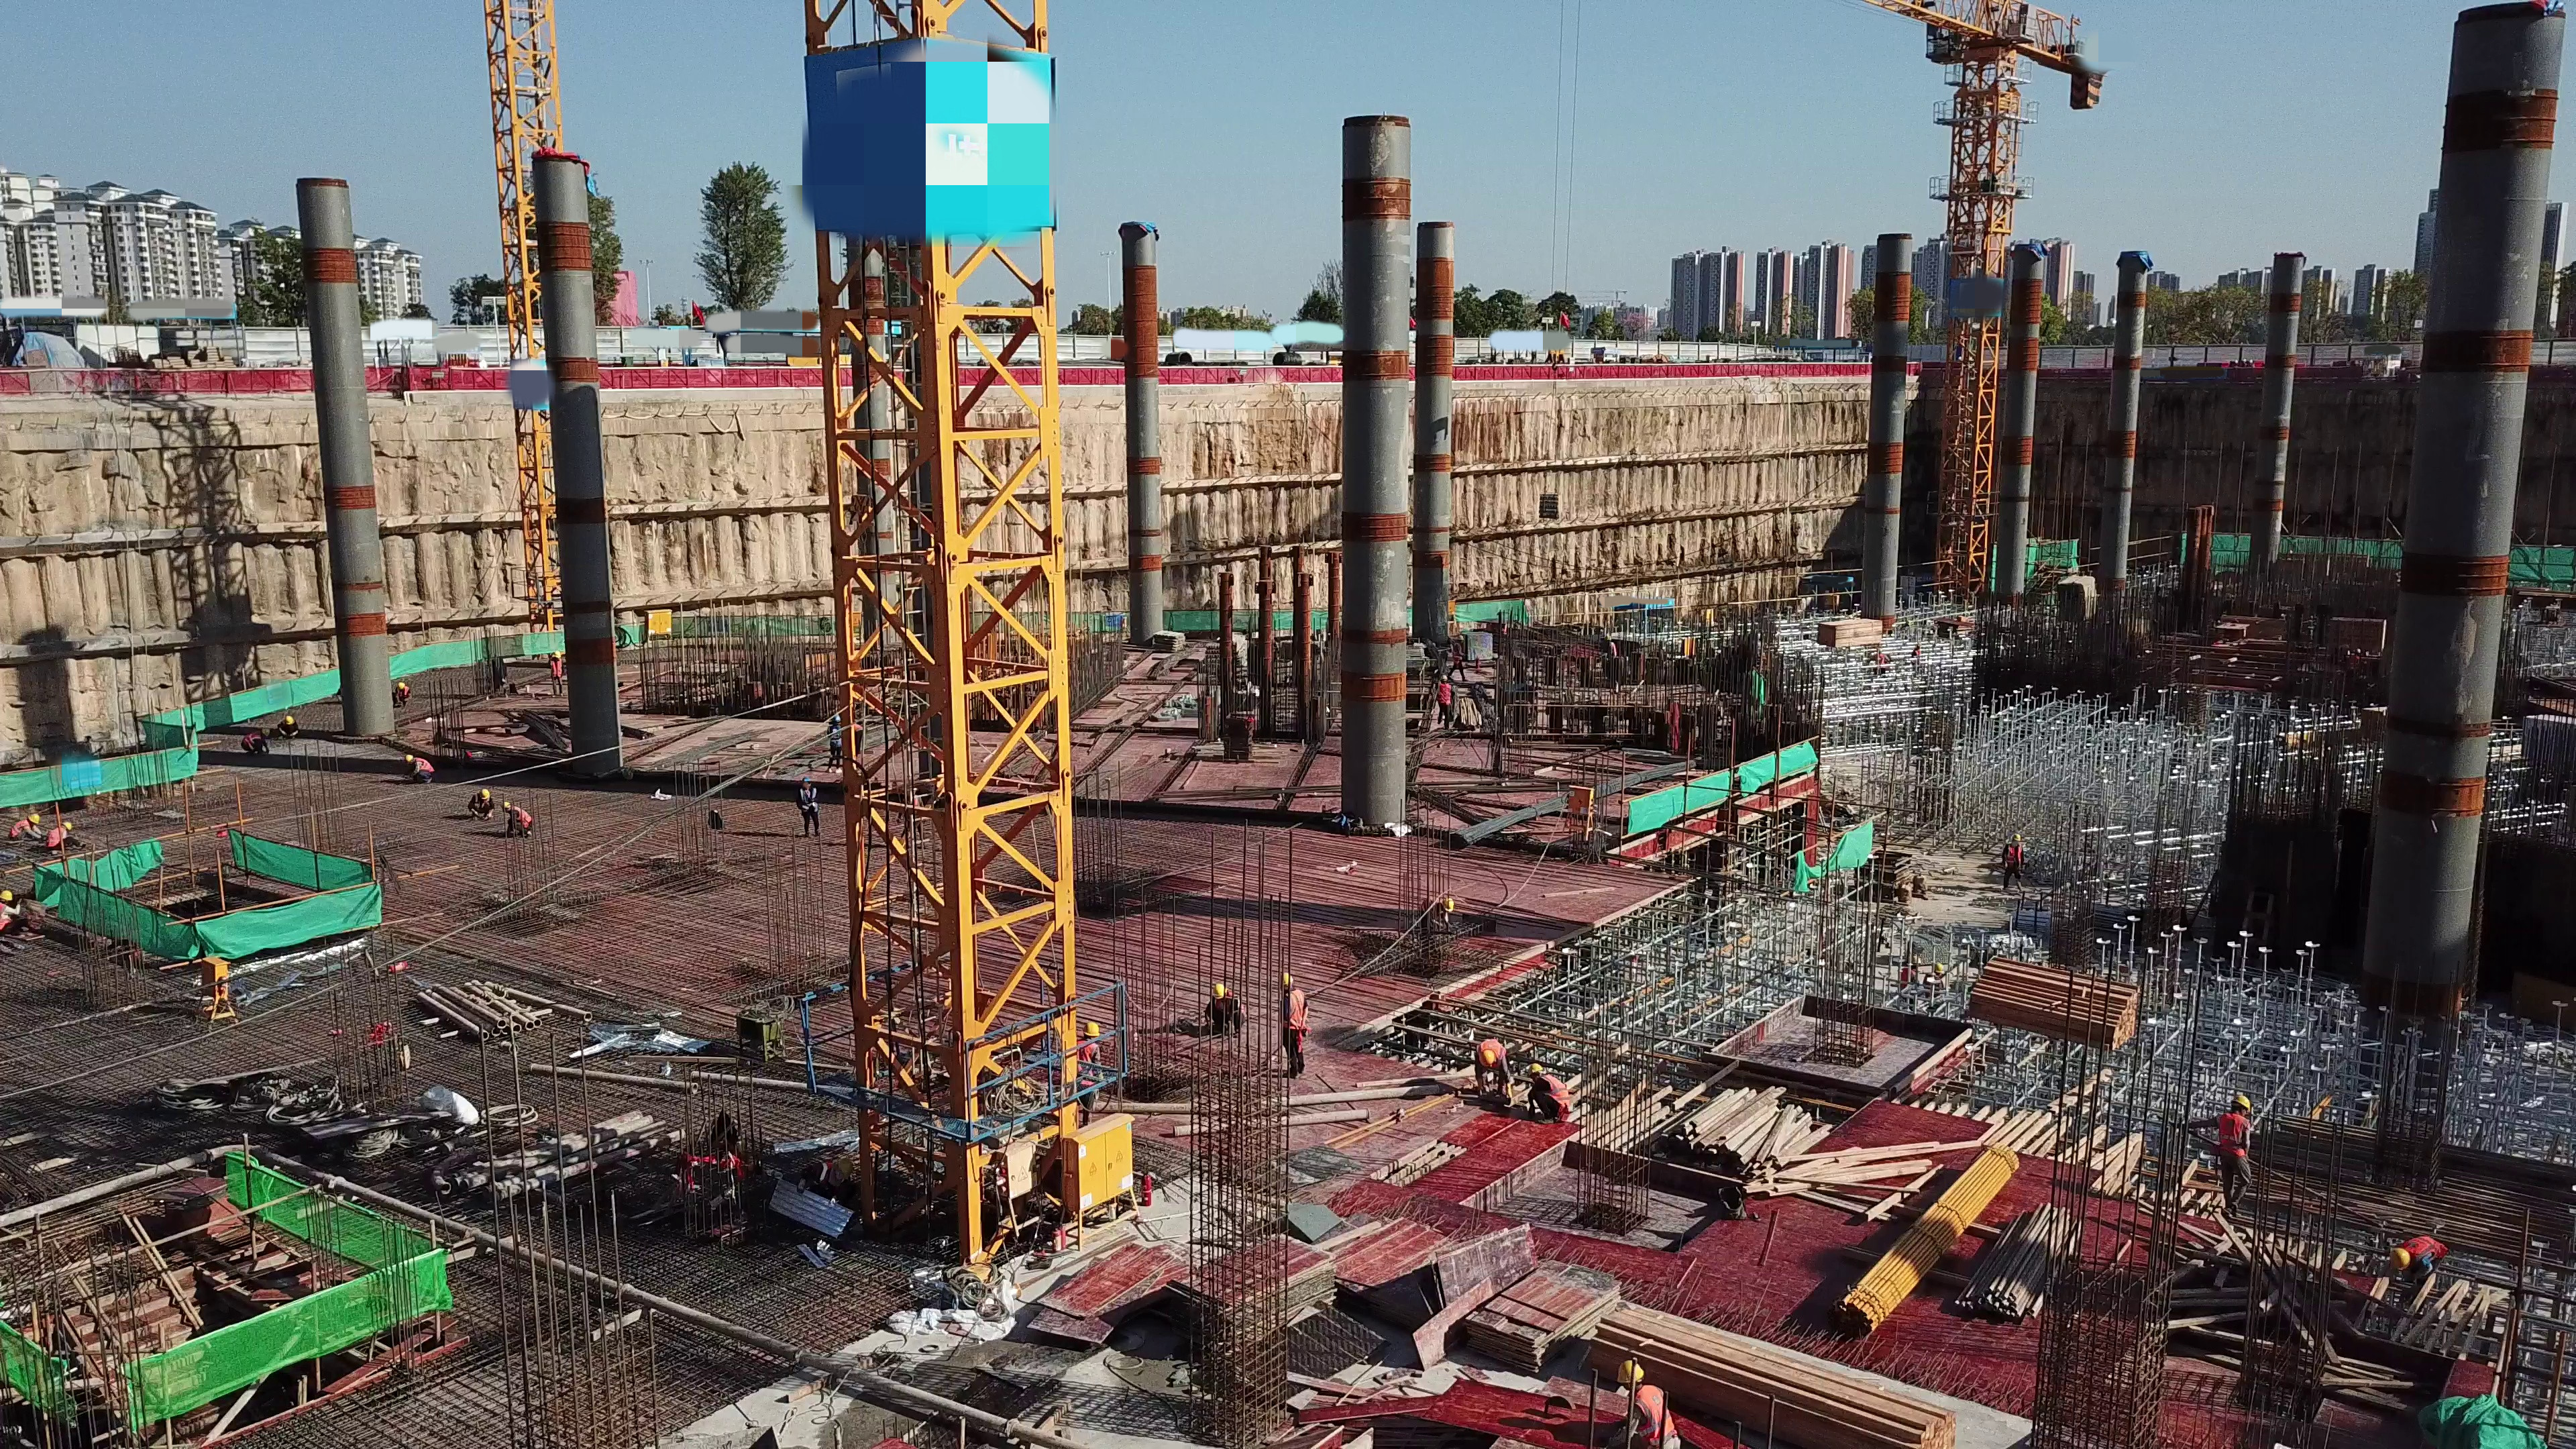board: (1169, 1232, 1336, 1353), (1464, 1260, 1621, 1372)
ebox: (1060, 1112, 1133, 1213), (201, 952, 241, 1014), (643, 606, 678, 645)
helmet: (1615, 1358, 1644, 1386), (831, 1157, 853, 1178), (1479, 1047, 1501, 1067), (2232, 1093, 2252, 1110), (1210, 984, 1226, 1000), (1083, 1023, 1100, 1036), (1529, 1061, 1544, 1073), (26, 814, 40, 824), (1444, 898, 1454, 912), (478, 788, 490, 800), (1, 890, 11, 900), (283, 715, 294, 725), (502, 800, 509, 810), (405, 753, 412, 763)
person: (1614, 1356, 1680, 1449), (2216, 1092, 2254, 1218), (1074, 1022, 1106, 1129), (790, 1158, 858, 1205), (1280, 971, 1307, 1080), (2385, 1234, 2447, 1281), (1527, 1062, 1570, 1126), (1474, 1038, 1512, 1106), (1205, 984, 1246, 1040), (797, 777, 820, 837), (2002, 834, 2024, 893), (501, 800, 533, 838), (46, 823, 85, 853), (7, 814, 48, 842), (1, 890, 22, 938), (403, 753, 434, 786), (240, 729, 273, 759), (468, 789, 495, 823), (827, 714, 843, 774), (548, 649, 565, 699), (278, 716, 300, 739), (394, 680, 411, 708)
vest: (1635, 1378, 1676, 1446), (2400, 1236, 2447, 1264), (2215, 1114, 2246, 1157), (1542, 1072, 1570, 1114), (1282, 990, 1304, 1032), (800, 788, 819, 814), (46, 827, 66, 850), (1480, 1038, 1504, 1055), (2006, 845, 2022, 868), (241, 731, 261, 750), (411, 756, 433, 772), (11, 819, 27, 838), (829, 726, 841, 747)
wood: (1587, 1303, 1956, 1449), (1660, 1084, 1833, 1177), (1971, 957, 2135, 1049), (1953, 1203, 2085, 1316), (1815, 618, 1886, 647)
